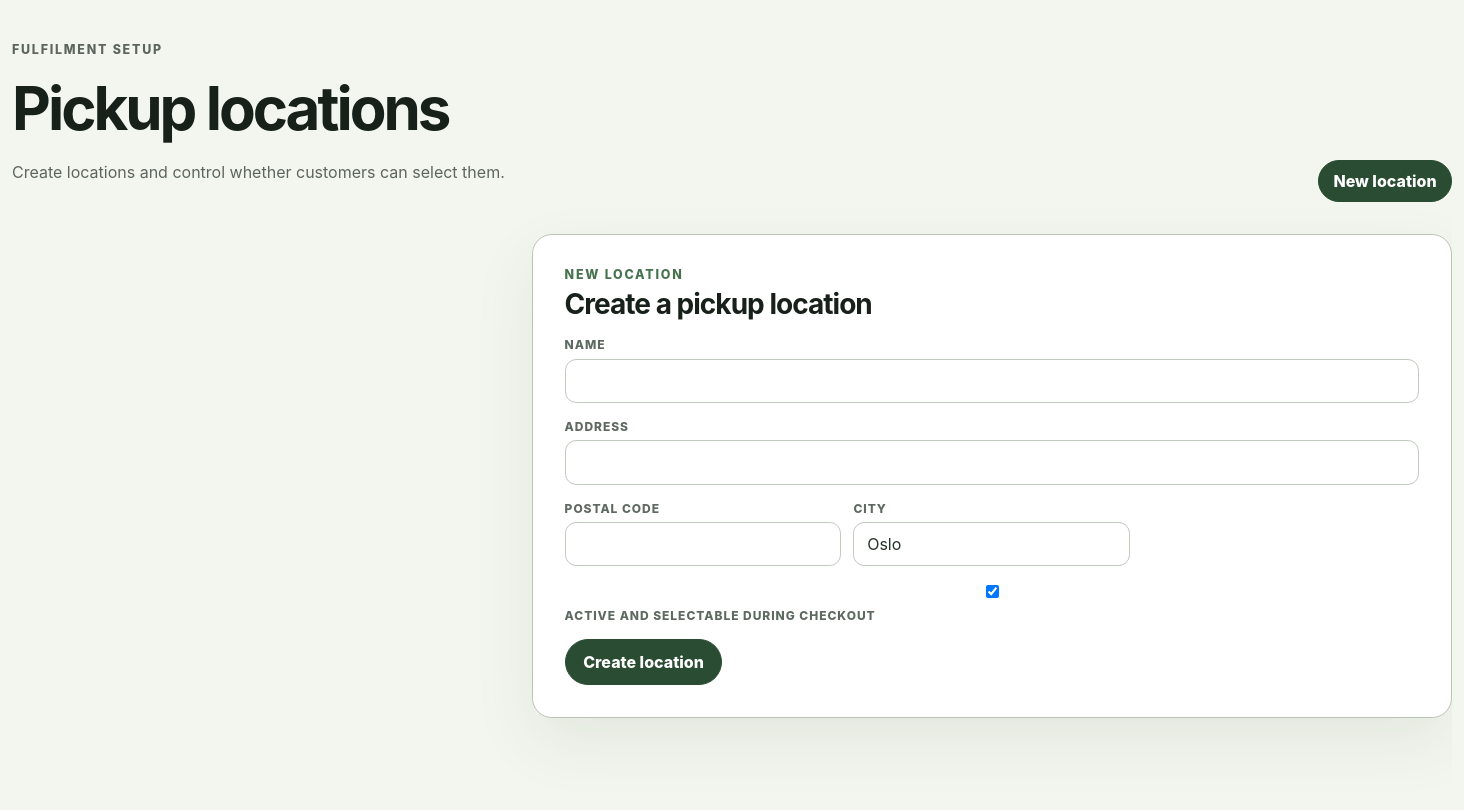
PickupLocationsPanel › creates a pickup location
Check: the heading "Create a pickup location" is shown, box [565,287,872,321]
Type "Nydalen test pickup" into the field labelled "Name" at [992, 381], box [565,358,1419,403]
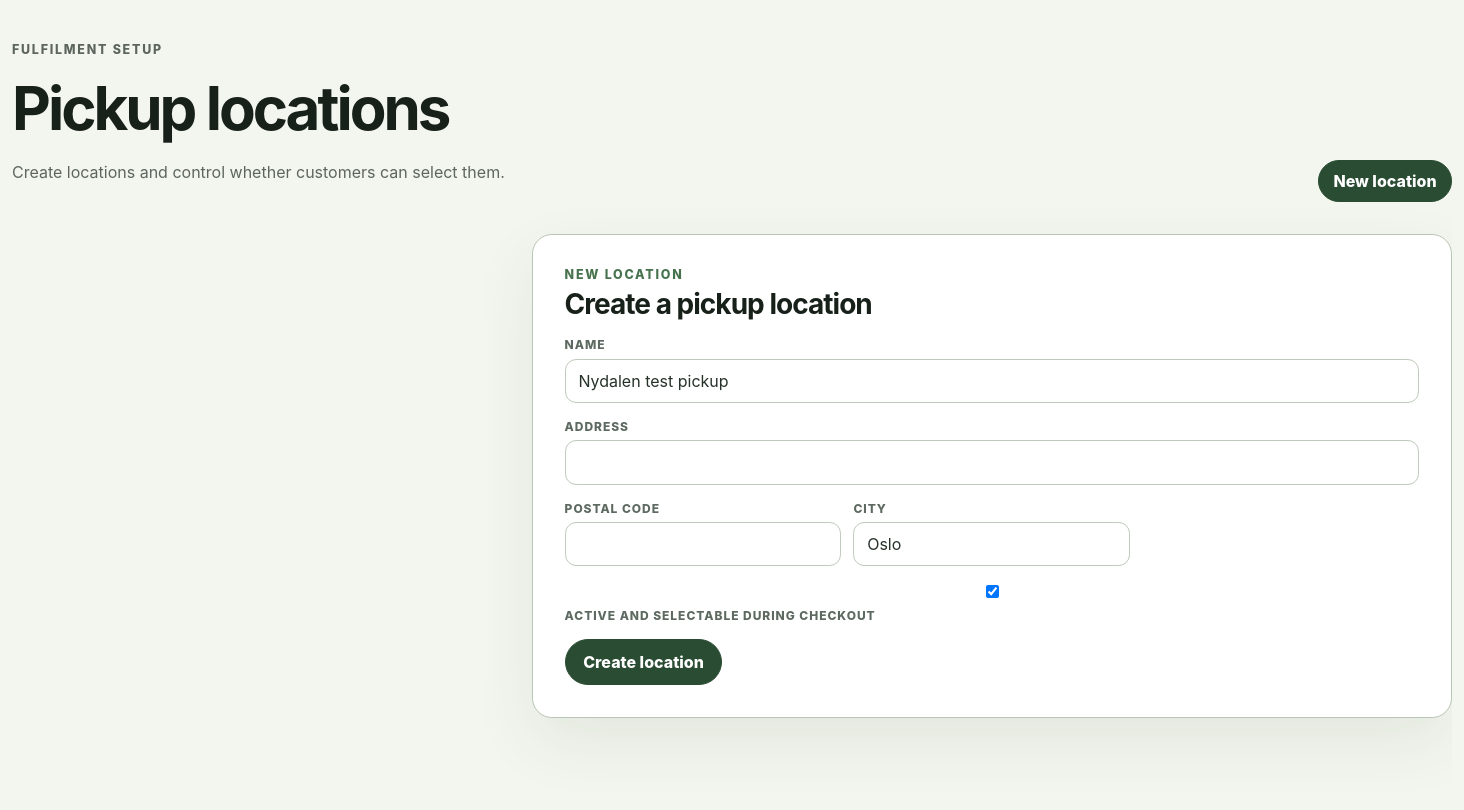
Type "Nydalsveien 1" into the field labelled "Address" at [992, 462], box [565,440,1419,485]
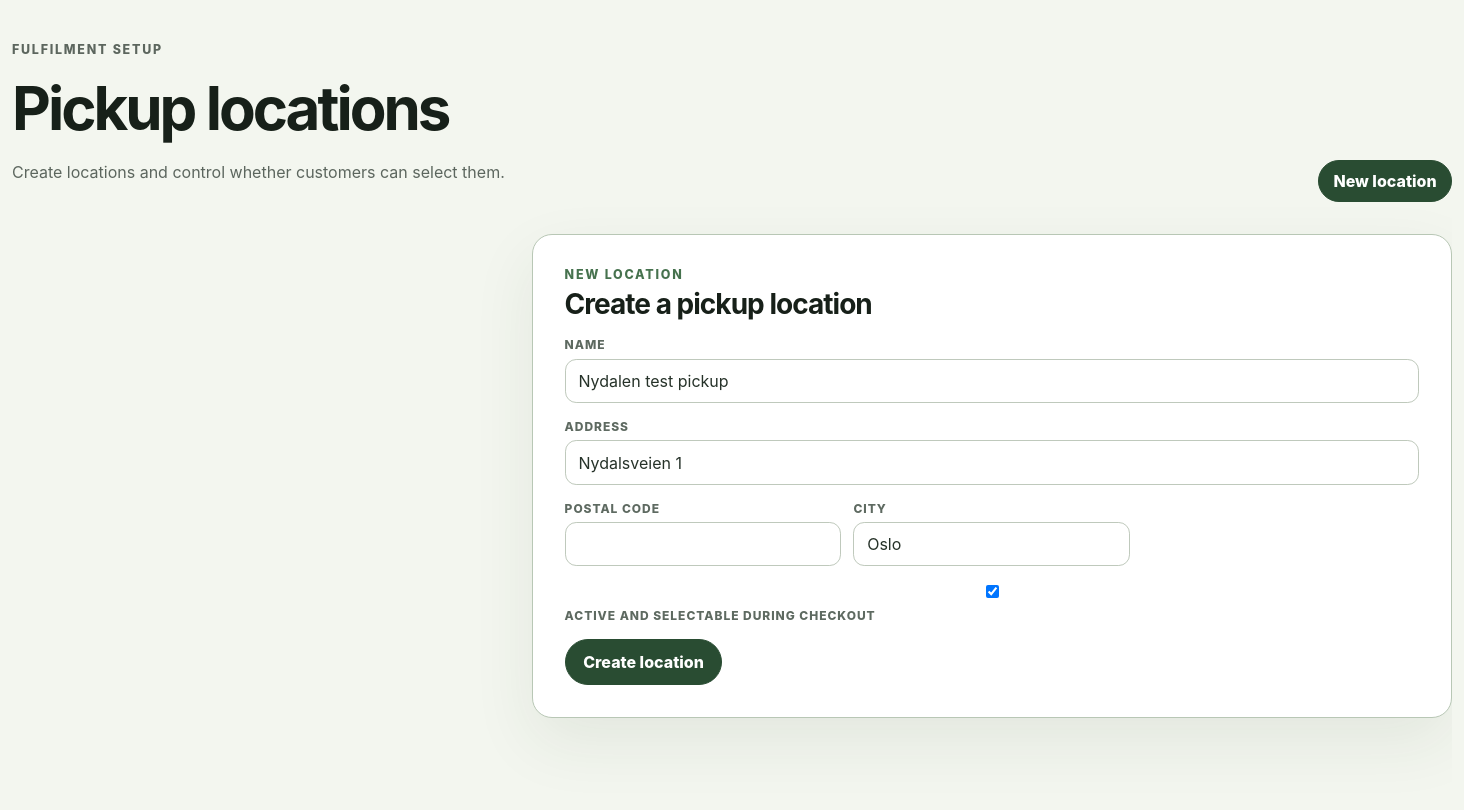
Type "0484" into the field labelled "Postal code" at [703, 544], box [565,522,841,566]
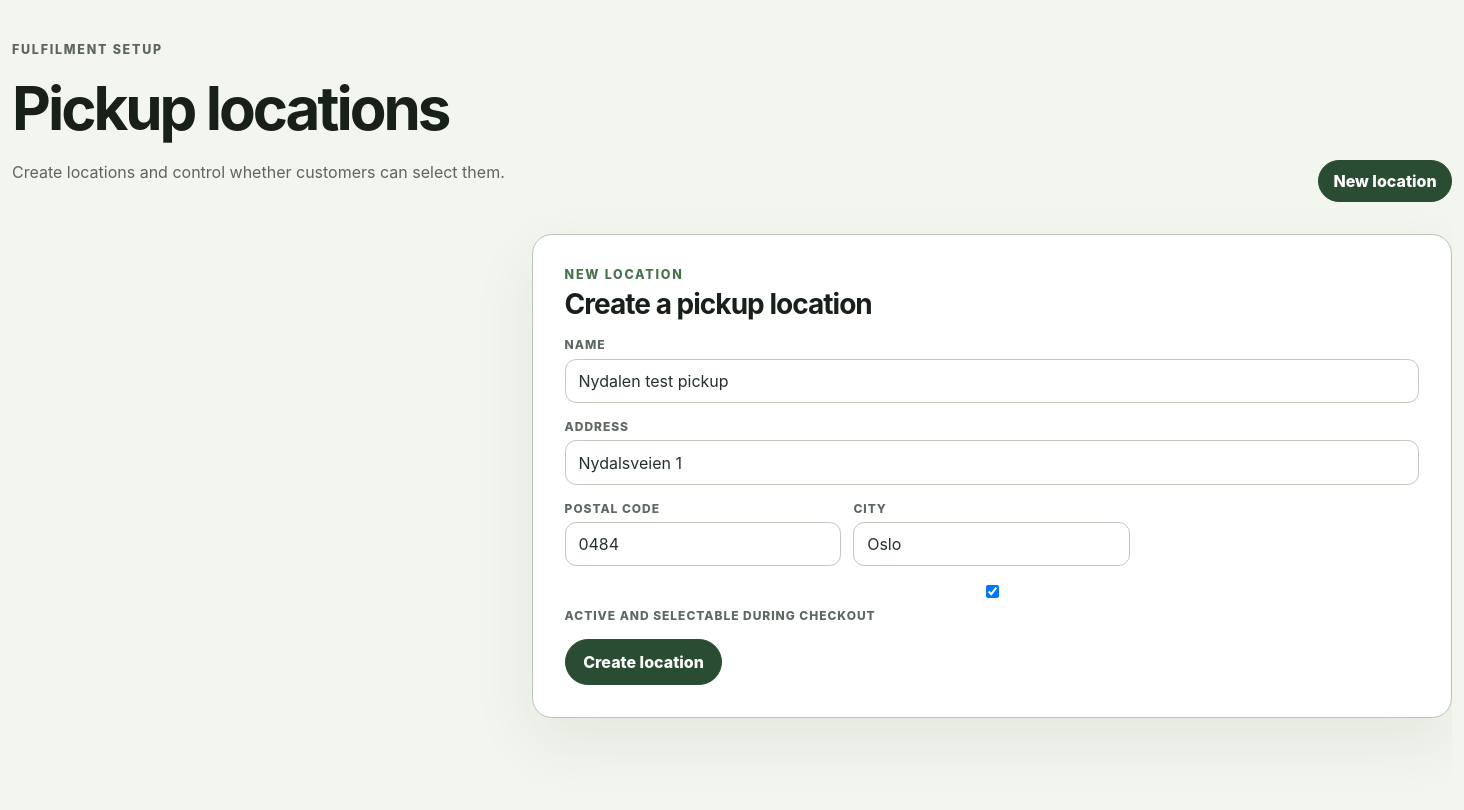
Click the button "Create location" at [644, 662], box [565,639,722,685]
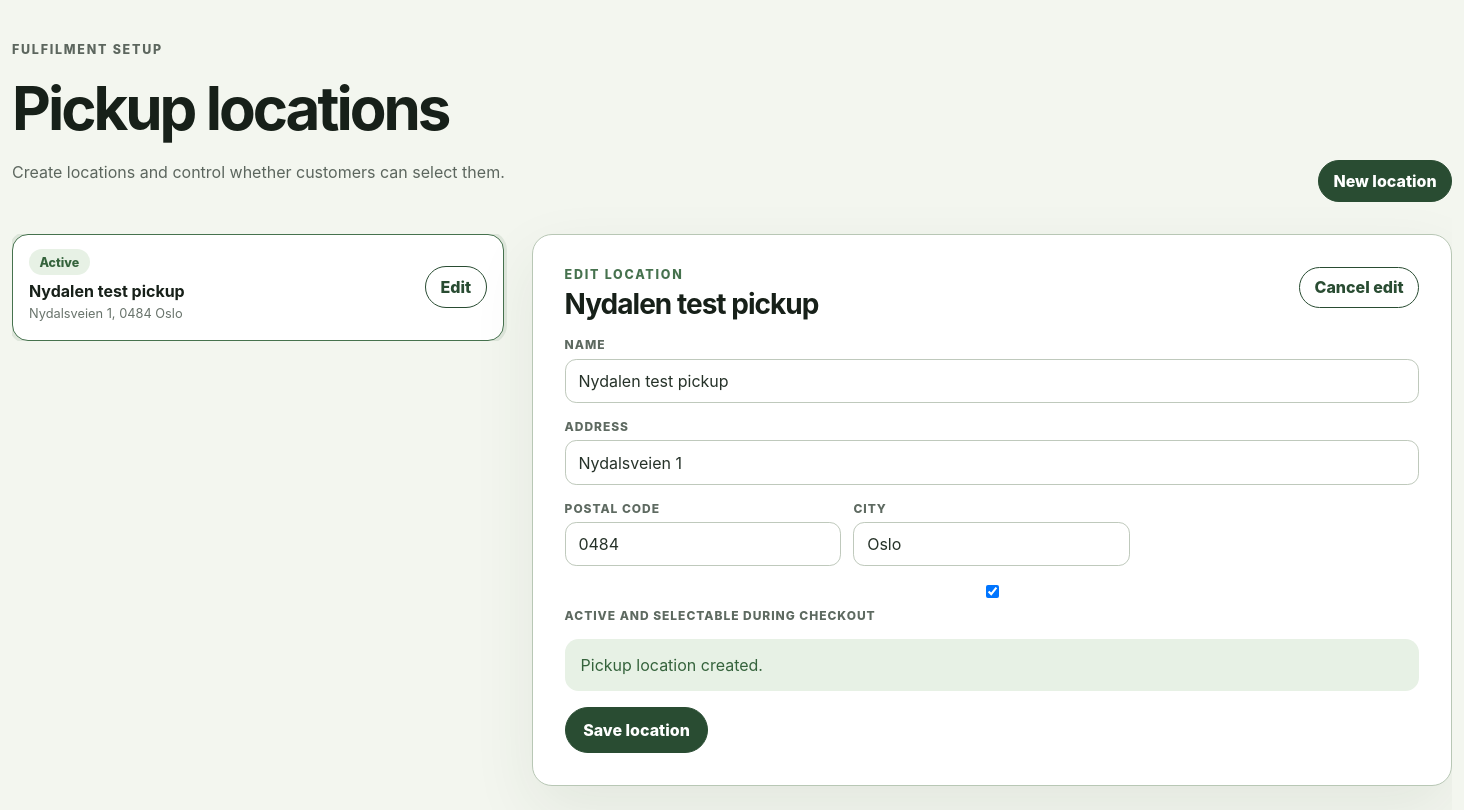
Check: the text "Pickup location created." is shown, box [565,639,1419,691]
Check: the number of headings "Nydalen test pickup" is 2, box [29,281,185,301]; [565,287,818,321]
